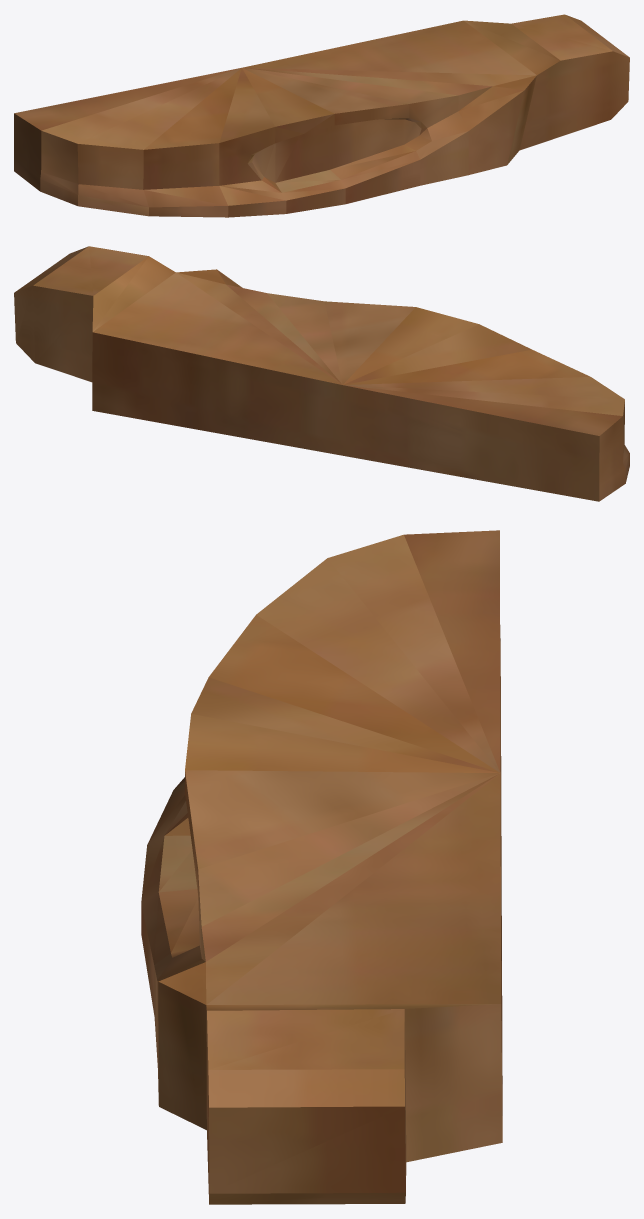
File: car_003.glb
3 views of the same model, one above another, from view 1: azimuth 30°, elevation 25°; view 2: azimuth 150°, elevation 25°; view 3: azimuth 270°, elevation 25° (orthographic). The views are drawn at different scales.
Parts seen in each view (by area): view 1: car.003; view 2: car.003; view 3: car.003.
Part boxes in pixels (bbox=[...]): car.003: bbox=[14, 14, 629, 217]; car.003: bbox=[14, 246, 629, 501]; car.003: bbox=[141, 530, 502, 1204].
Size of the model in its own units: 1.78 by 0.2797 by 0.5127.
1 material, 1 textured.
